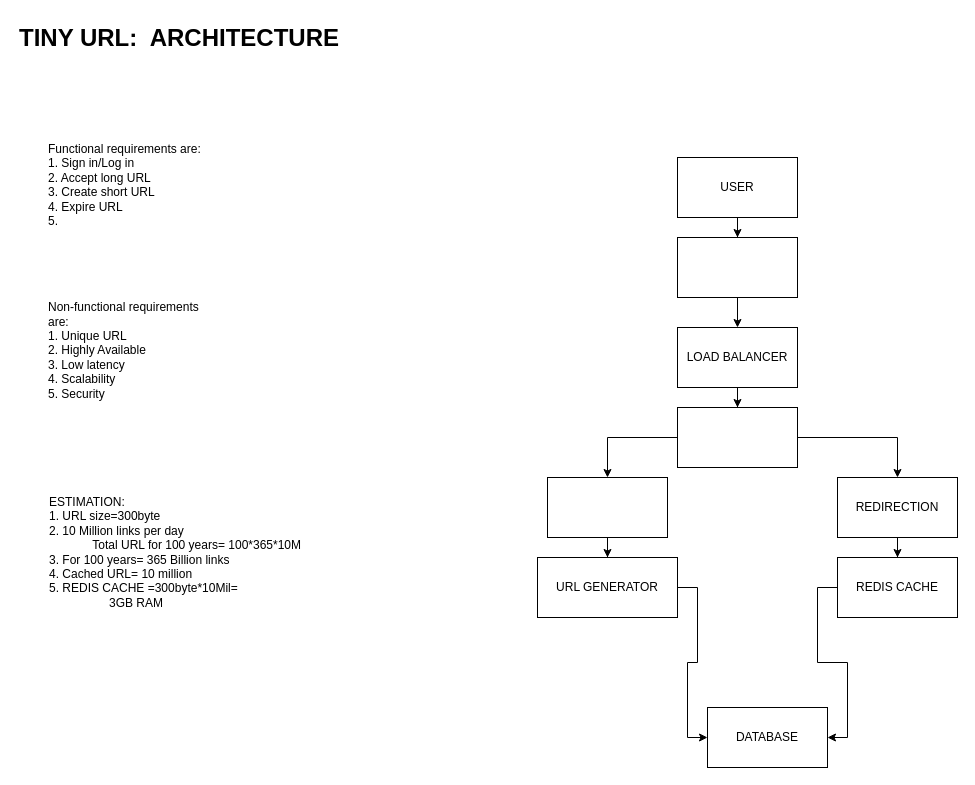
Image size: 975x785. Some labels were removed from this diagram. Here are the shapes that lost their labels. From the top down, the centre of each, then its label:
At point 737,267: "API GATE".
At point 737,437: "SERVERS".
At point 607,507: "SHORT URL CREATION".
